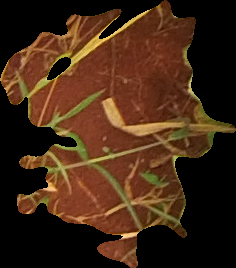soil: (4, 2, 233, 264)
